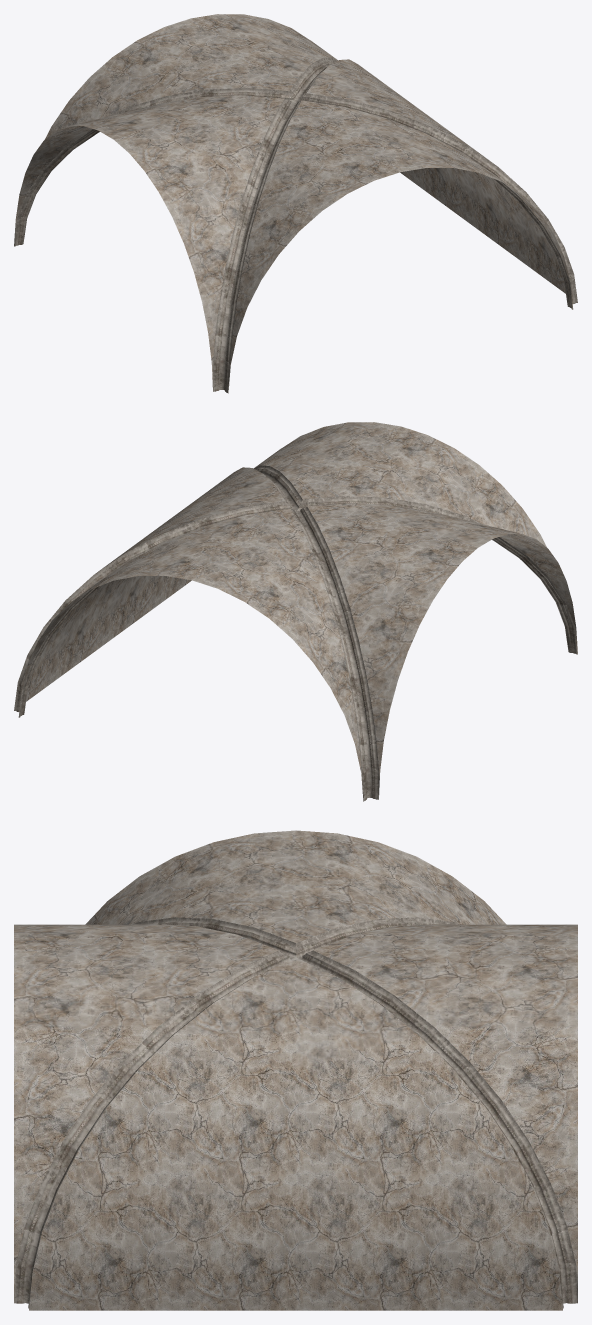
The picture shows the model from 3 angles, top to bottom: view 1: azimuth 30°, elevation 25°; view 2: azimuth 150°, elevation 25°; view 3: azimuth 270°, elevation 25°; orthographic projection. The views are drawn at different scales.
Parts seen in each view (by area): view 1: SM_Ceiling03b_LOD0; view 2: SM_Ceiling03b_LOD0; view 3: SM_Ceiling03b_LOD0.
Boxes of the visible parts, box(x1,y1,x2,y2) form: SM_Ceiling03b_LOD0: box(14, 14, 577, 393); SM_Ceiling03b_LOD0: box(14, 422, 577, 801); SM_Ceiling03b_LOD0: box(14, 830, 577, 1310).
Size of the model in its own units: 8.03 by 3.77 by 8.
Materials: 2 (2 with a texture image).
